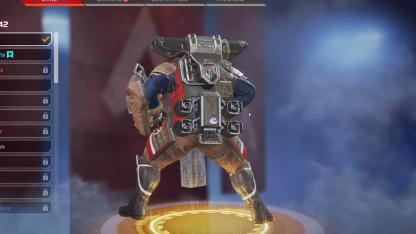Target: (128, 32, 264, 202)
